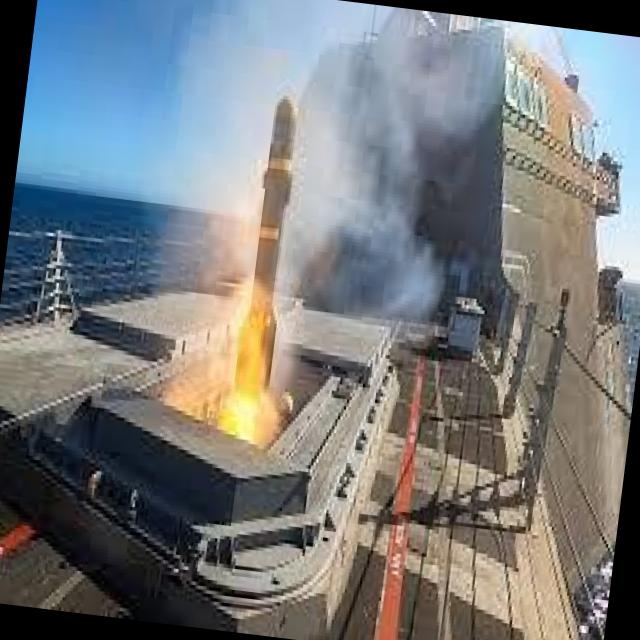rocket: (225, 88, 309, 440)
